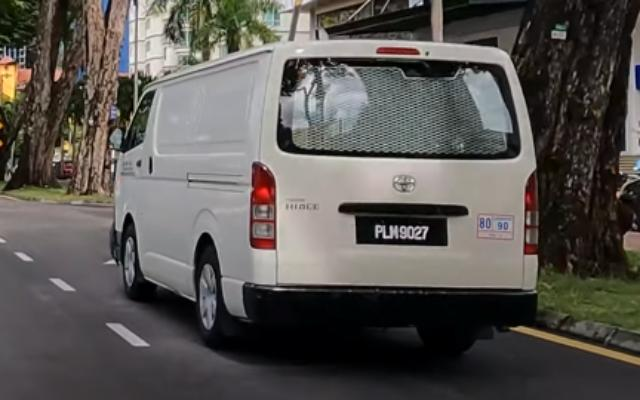License_Plate: (358, 220, 448, 246)
car: (106, 36, 545, 355)
